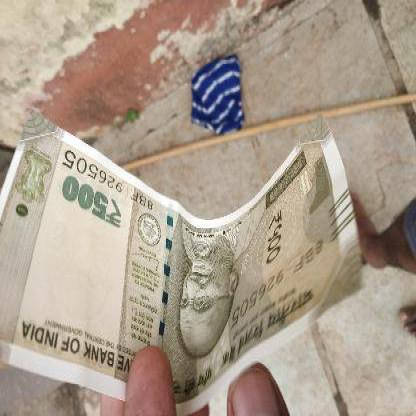New500Front: (0, 108, 356, 388)
